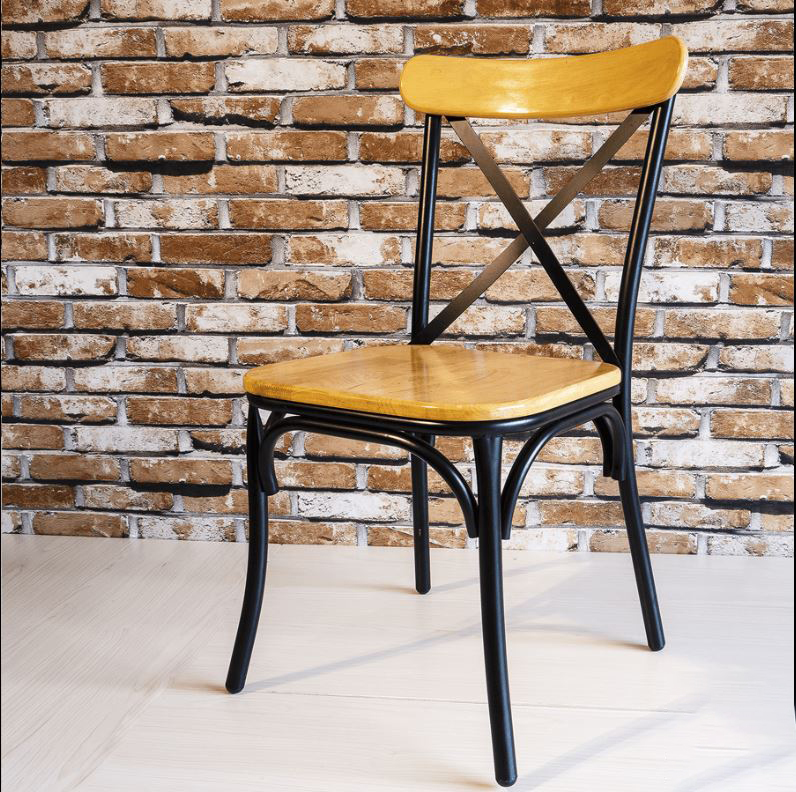seat: (228, 28, 670, 777)
